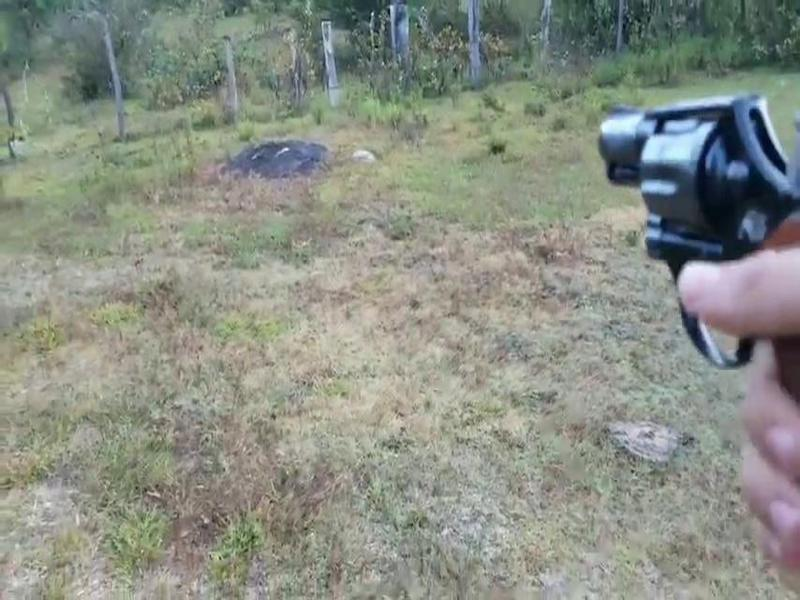Revolver: (566, 88, 800, 440)
